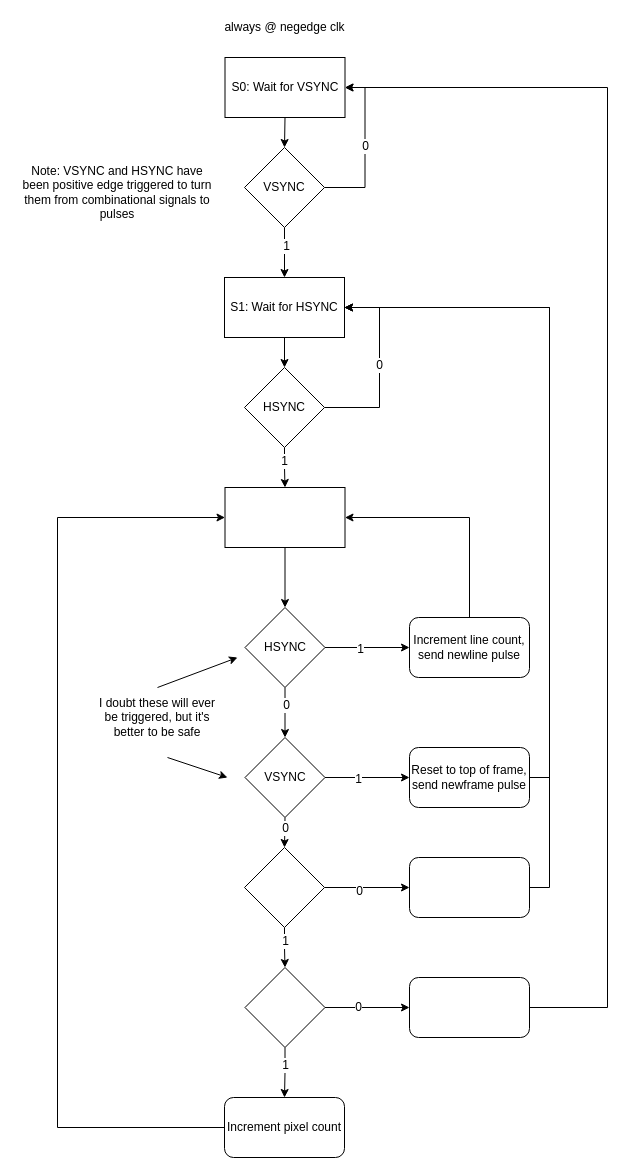
The diagram is 633 pixels wide and 1175 high, and some of its shapes have lost their labels. The box of each missing label's shape, as (x1, y1, x2, y2) in pixels:
Increment line count, send newline pulse, wait for HSYNC: (408, 856, 530, 918)
Line count < 240: (244, 966, 325, 1048)
Pixel count < 320: (244, 846, 324, 928)
Reset to top of frame, send newframe pulse, wait for VSYNC: (408, 976, 530, 1038)
S2: record 3 bytes video data on current line: (224, 486, 345, 548)
